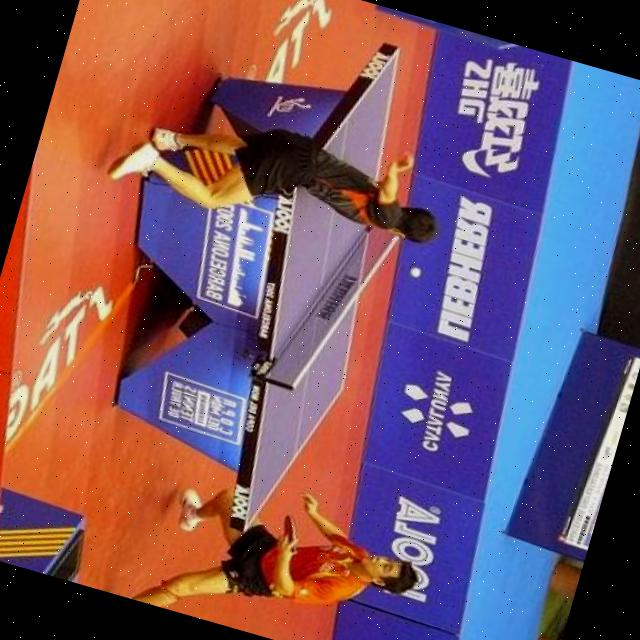ping-pong-ball: (410, 266, 423, 277)
